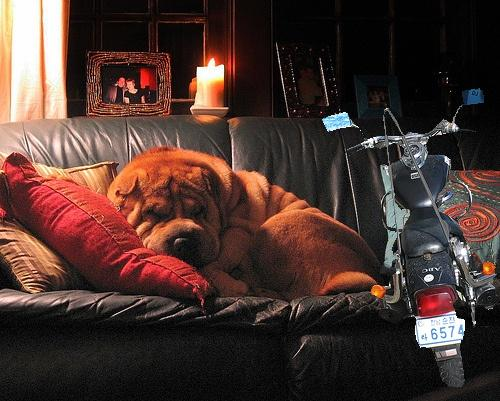tampered: (323, 89, 499, 387)
